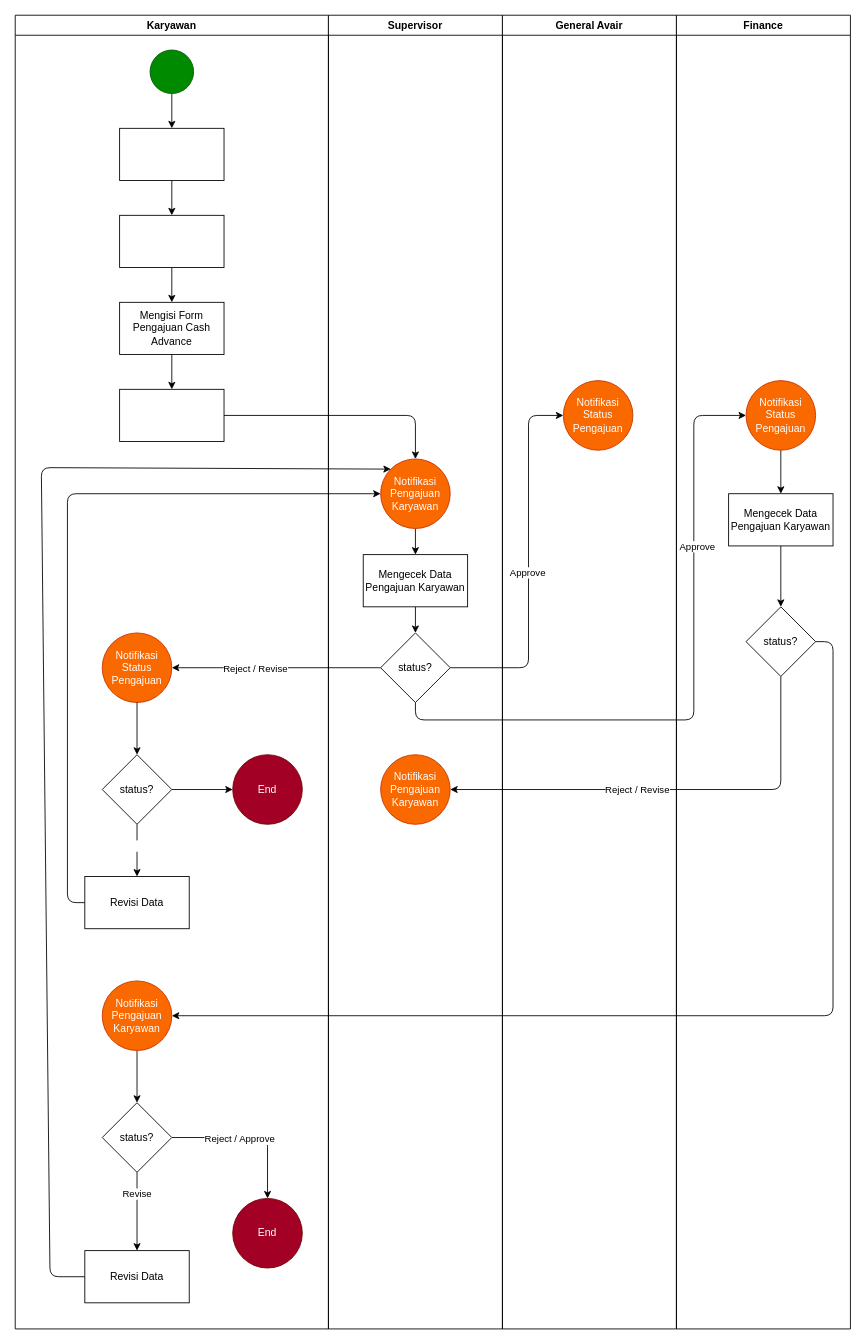
Image size: 866x1344. Some labels were removed from this diagram. Here are the shapes that lost their labels. From the top down, the centre of each, then its label:
At point 171,71: "Start".
At point 171,154: "Login sebagai karyawan".
At point 171,241: "Membuka menu Cash Advance".
At point 171,415: "Submit Data".
